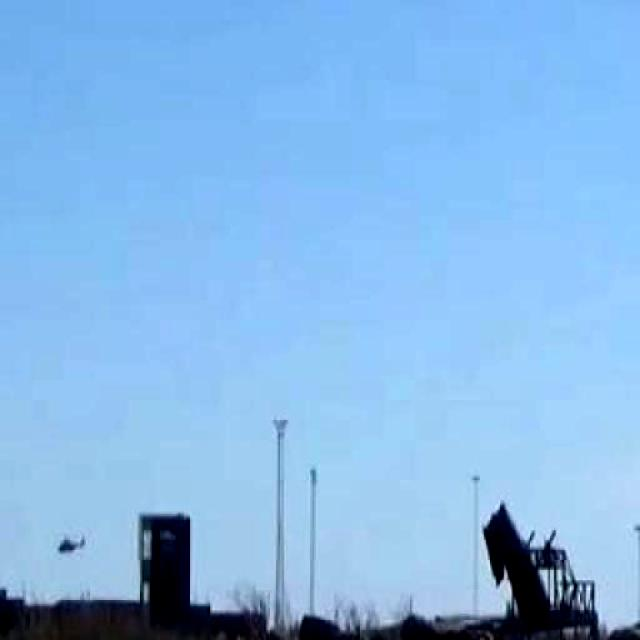drone: (35, 515, 105, 572)
